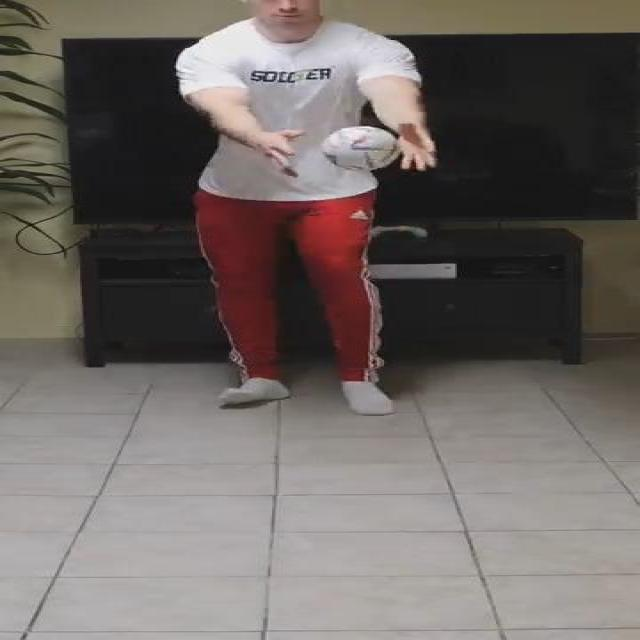Soccer Ball: (318, 124, 400, 172)
